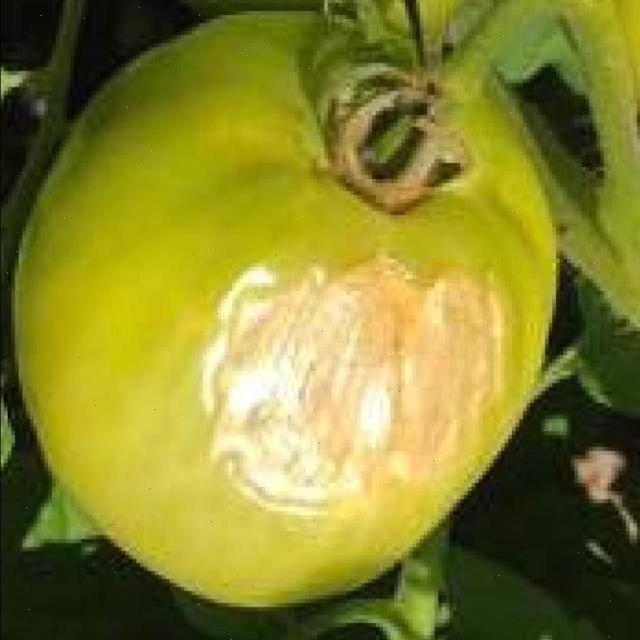Sunscald Fruit: (134, 149, 350, 351)
